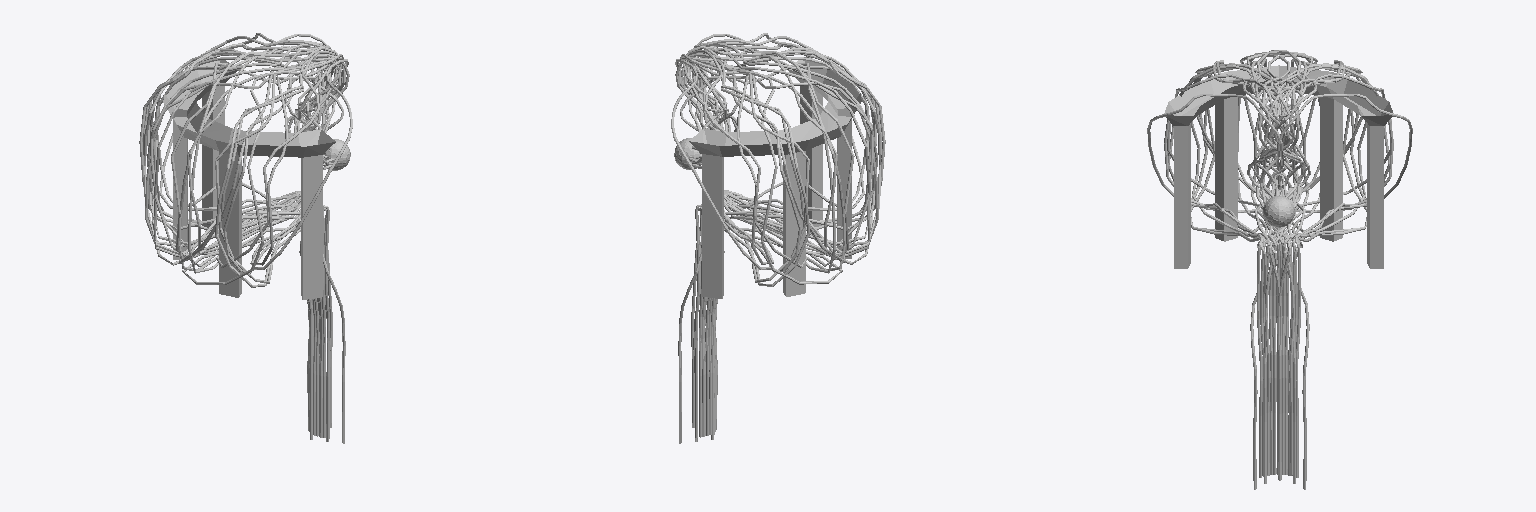
File: PBR - Metallic Roughness.obj
The picture shows the model from 3 angles: view 1: azimuth 30°, elevation 25°; view 2: azimuth 150°, elevation 25°; view 3: azimuth 270°, elevation 25°; orthographic projection.
Parts seen in each view (by area): view 1: polySurface8, pTorus4; view 2: polySurface8, pTorus4; view 3: polySurface8, pTorus4, pSphere1.
Part boxes in pixels (x1,y1,x2,y2): polySurface8: (139, 33, 352, 443); pTorus4: (163, 57, 335, 299); polySurface8: (671, 33, 885, 443); pTorus4: (689, 57, 861, 298); polySurface8: (1147, 50, 1412, 489); pTorus4: (1164, 65, 1392, 268); pSphere1: (1263, 196, 1294, 227).
Size of the model in its own units: 507 by 1035 by 631.